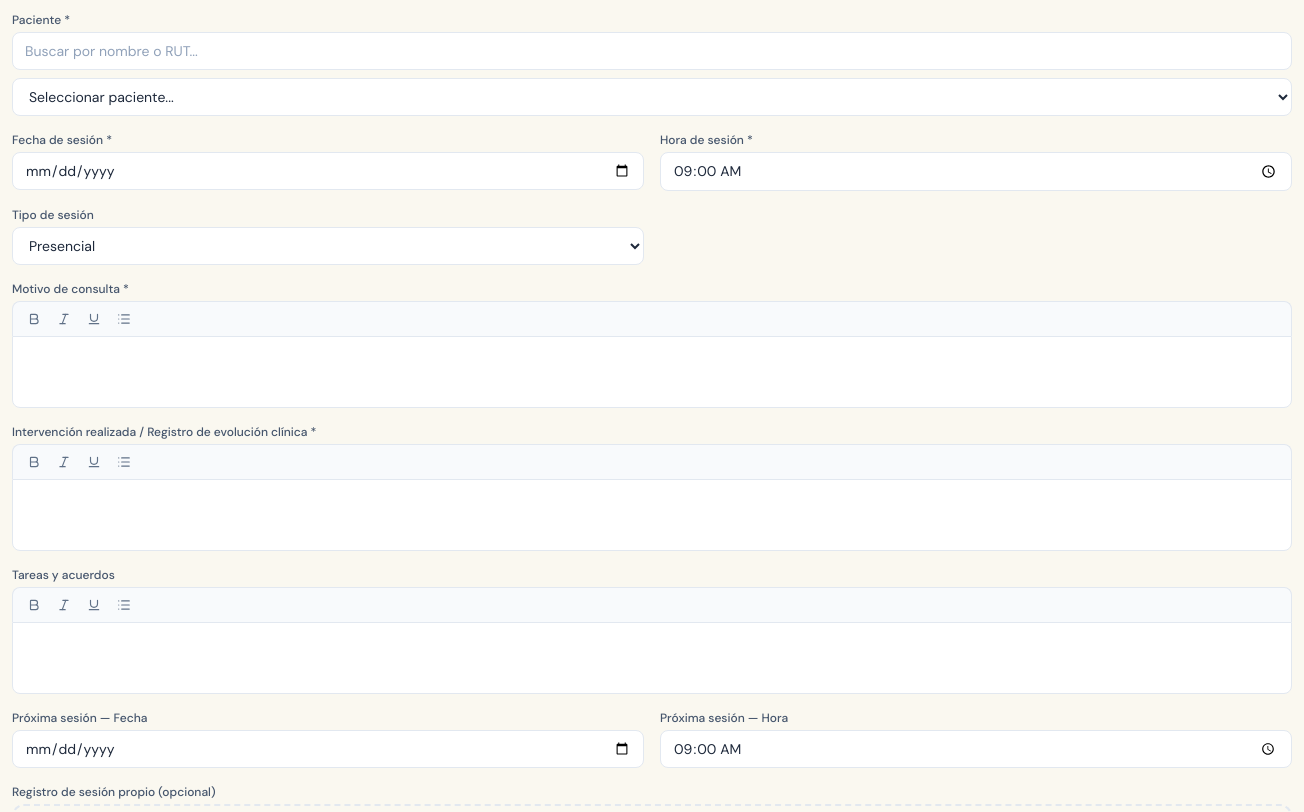
ConsultationForm — búsqueda de pacientes en el servidor (#290) › panel de resultados › muestra nombre y RUT de cada coincidencia y cierra el panel al elegir
The image size is (1304, 812).
Type "Otra" into the search field named "buscar paciente".
click(652, 51); type("Otra")  # box [12, 32, 1292, 70]
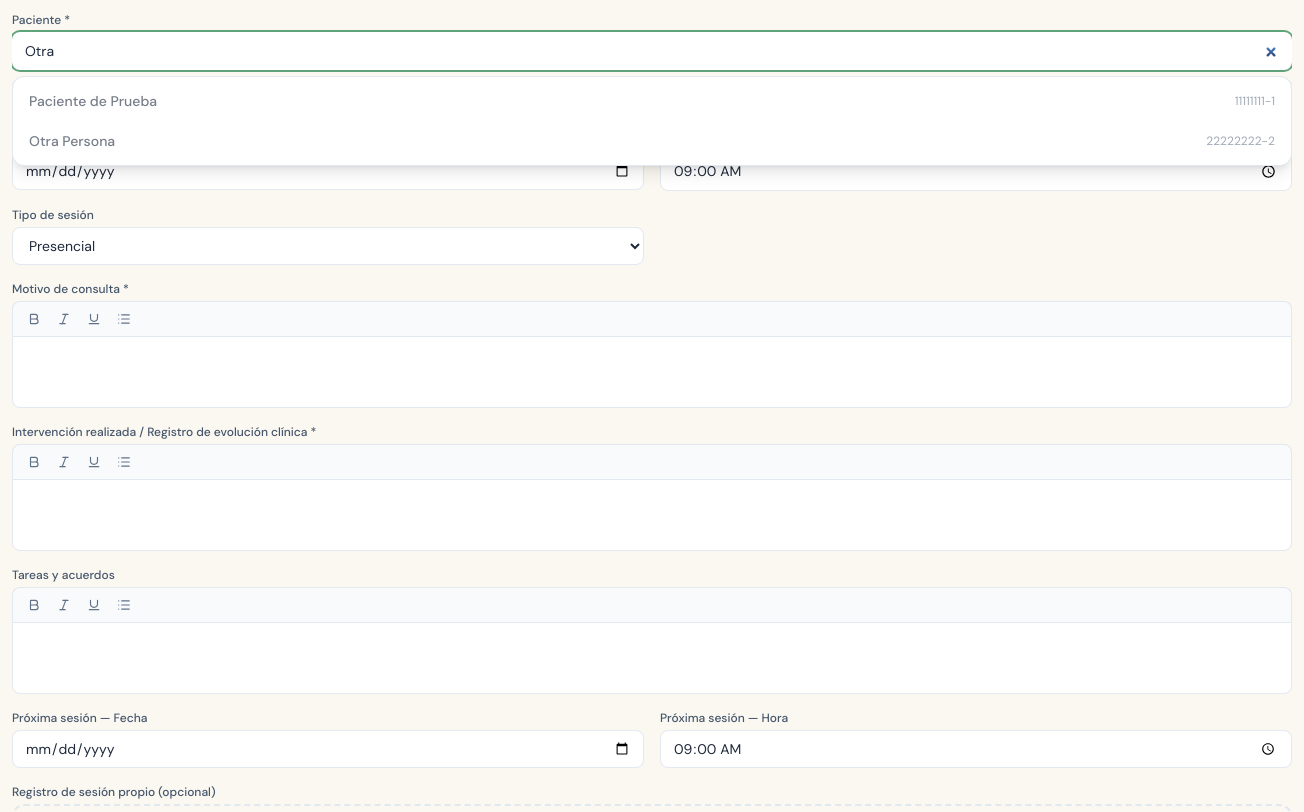
Expected: the option "Otra Persona 22222222-2" is shown
Click the option "Otra Persona 22222222-2".
click(72, 141)  # box [17, 121, 1287, 161]
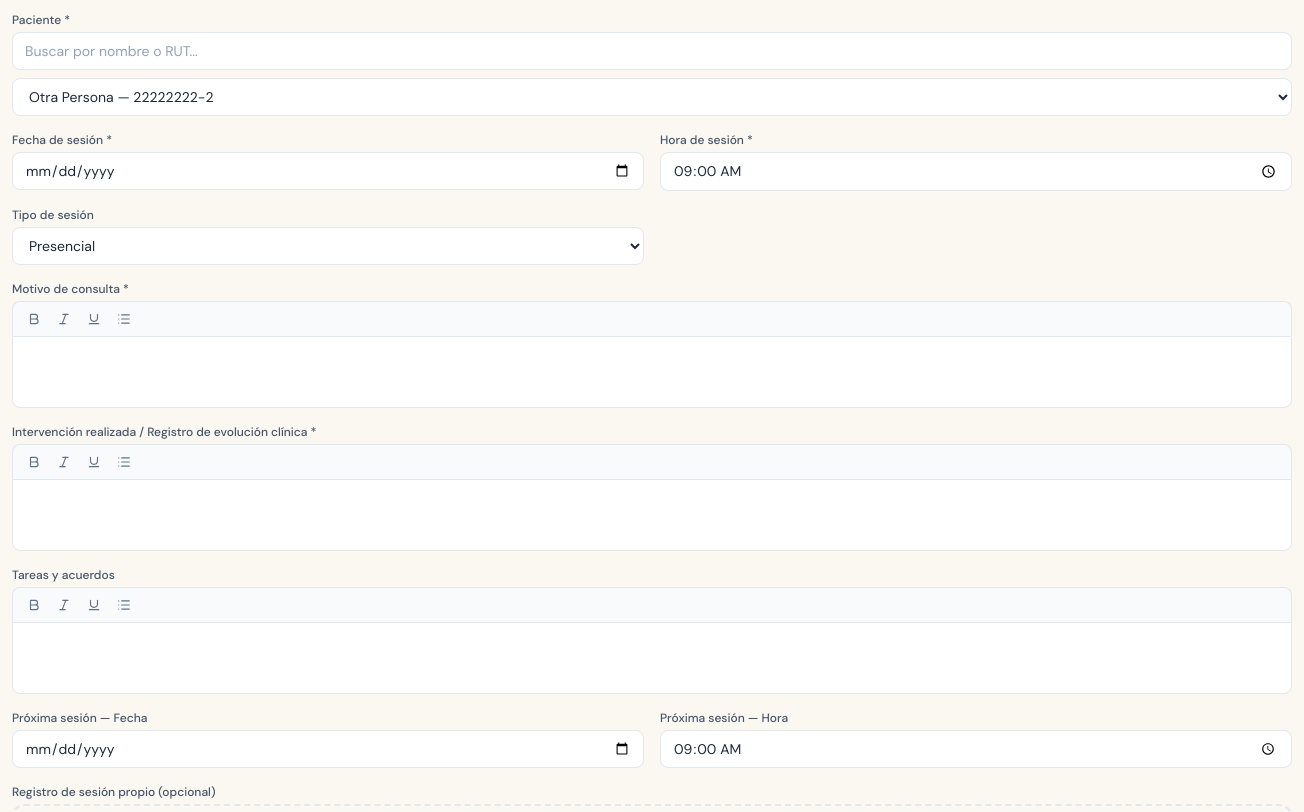
Expected: the dropdown labelled "Paciente *" shows "Otra Persona — 22222222-2", [12, 78, 1292, 116]
Expected: the search field named "buscar paciente" is empty, [12, 32, 1292, 70]
